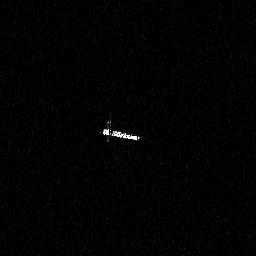ship: (97, 120, 143, 146)
